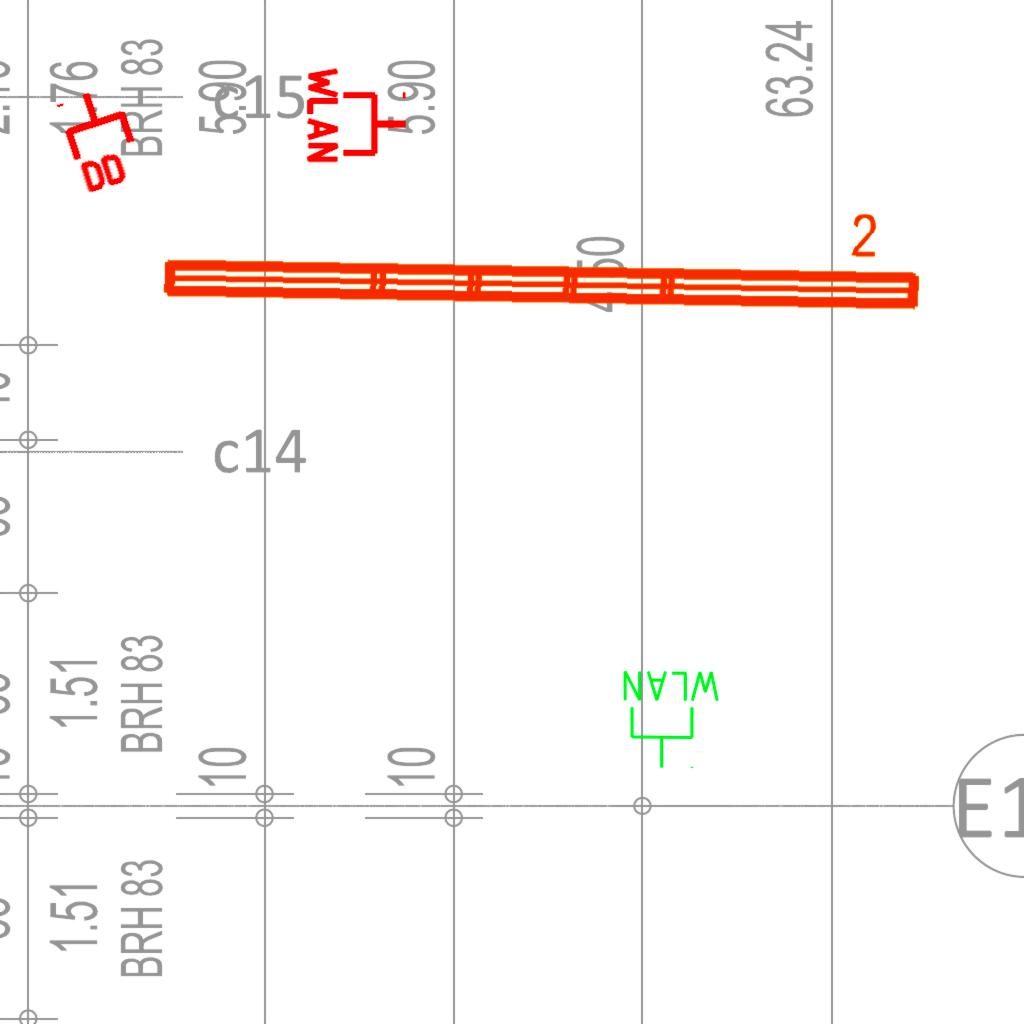Ambulanz_Pendelleuchte_LED: (153, 196, 929, 322)
Datenanschluss_zweifach: (53, 79, 152, 200)
WLAN: (619, 667, 724, 771), (305, 63, 410, 167)
